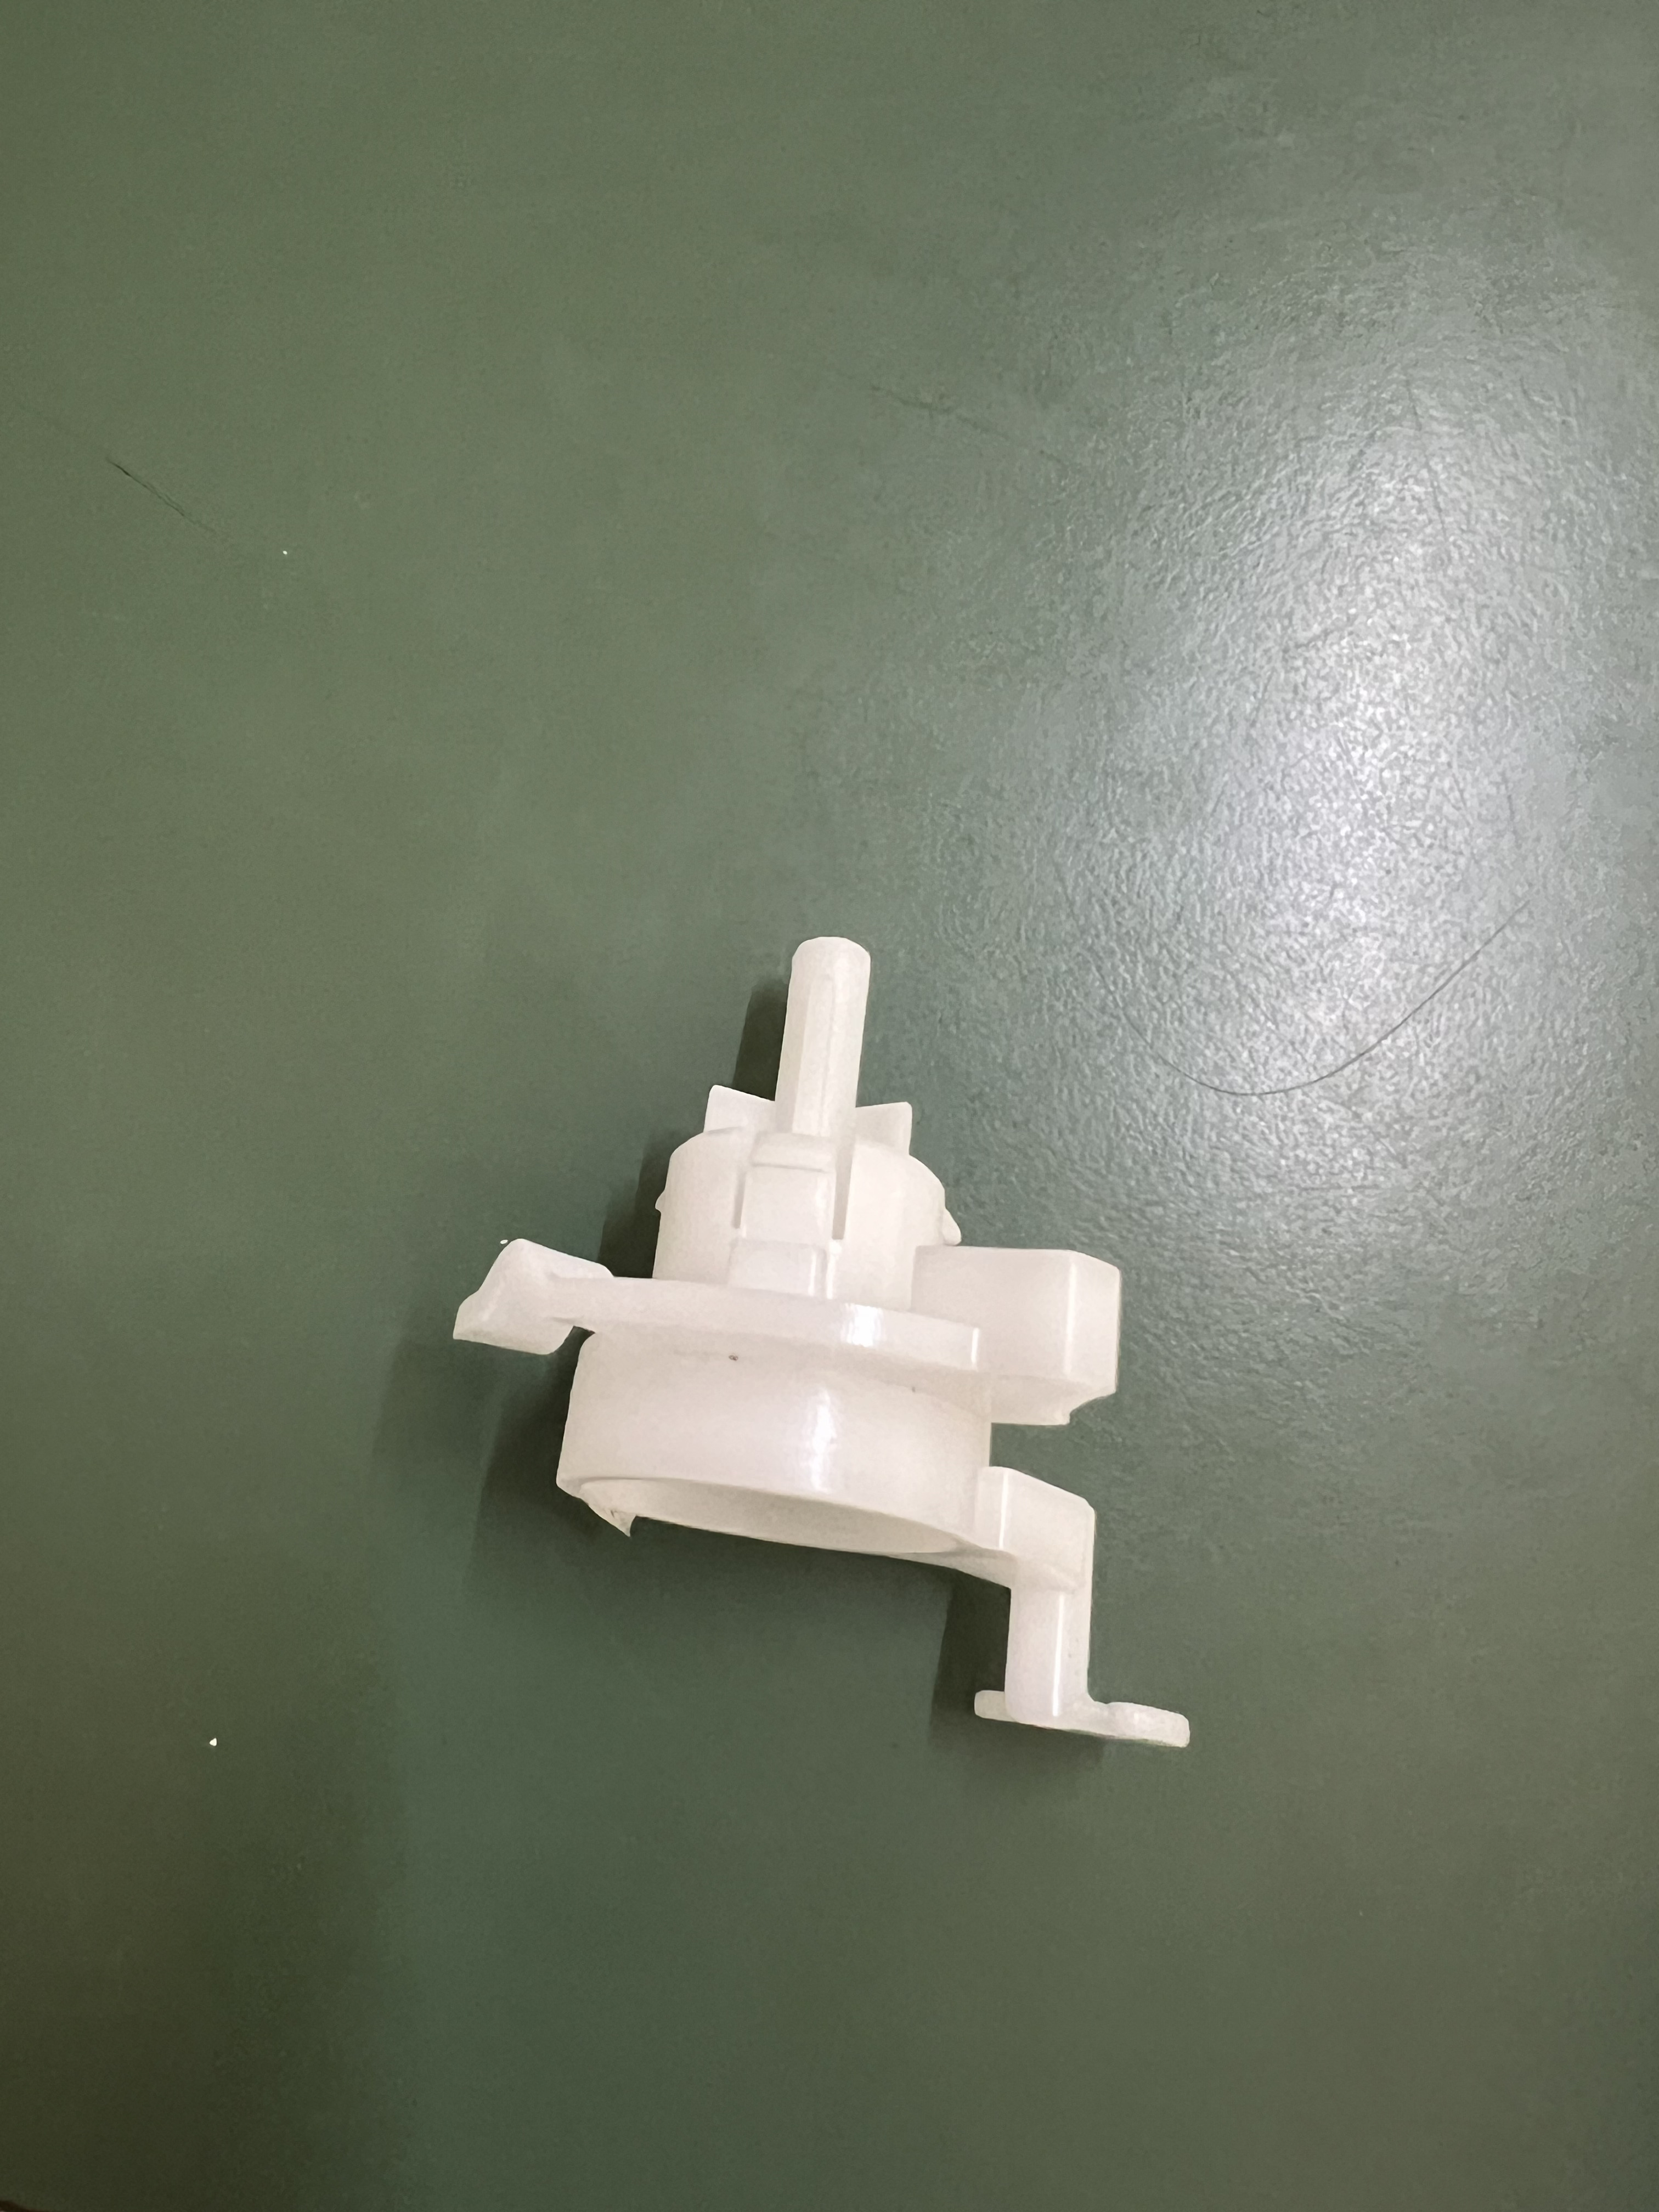drain_lever: (432, 913, 1256, 1775)
